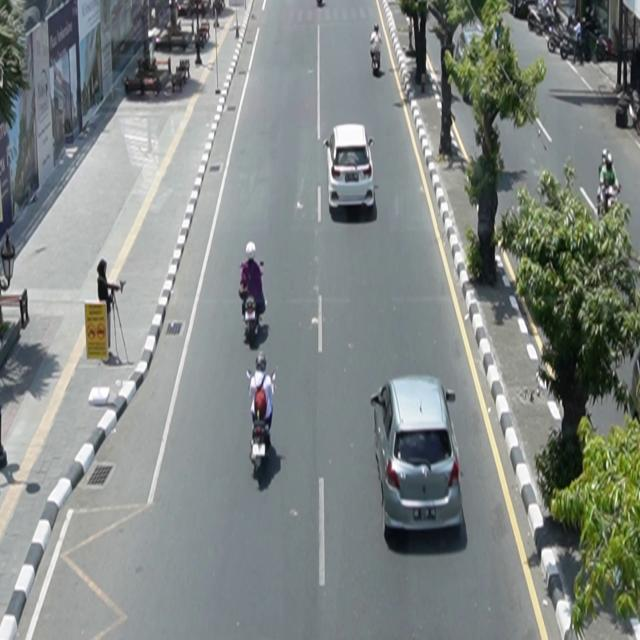car: (371, 374, 465, 539), (324, 124, 376, 211)
